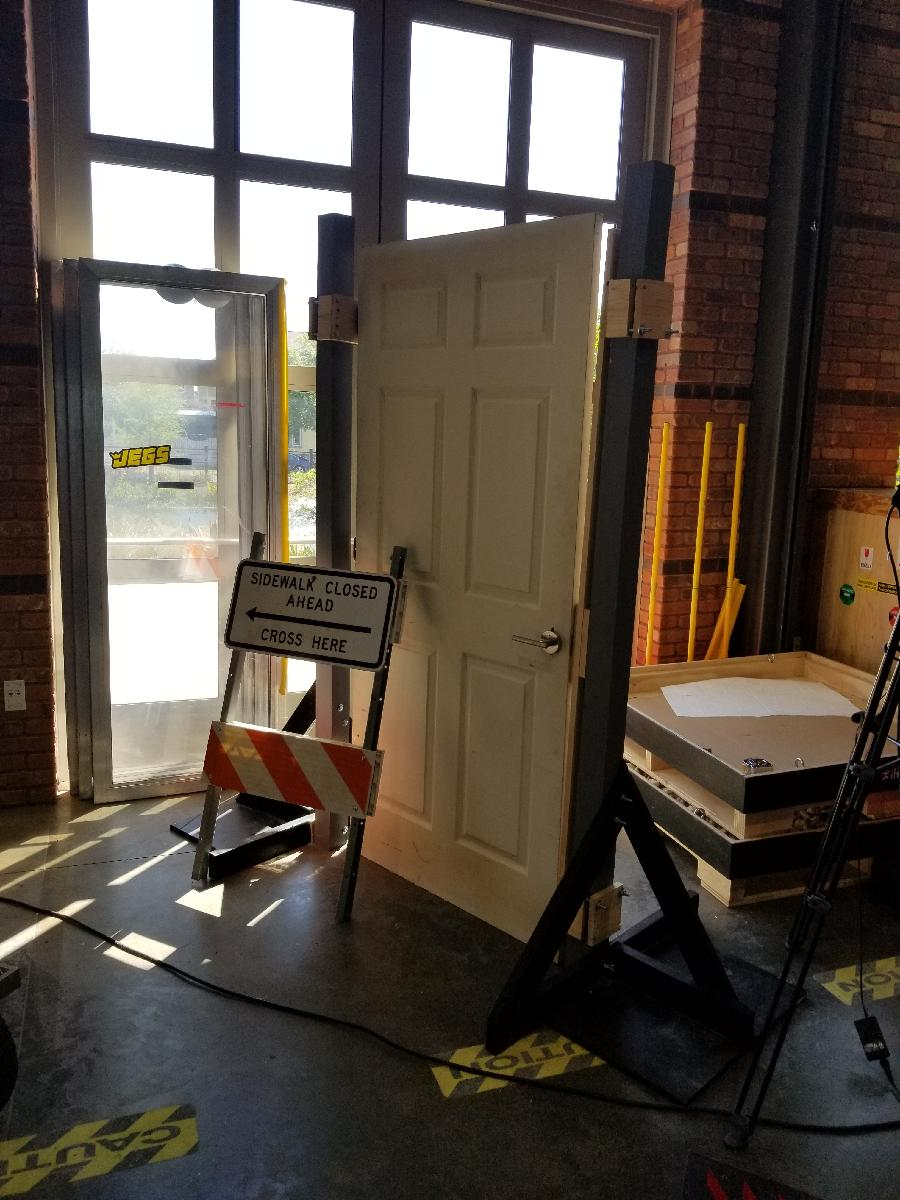door: (344, 197, 597, 959)
doorHandle: (508, 624, 567, 664)
